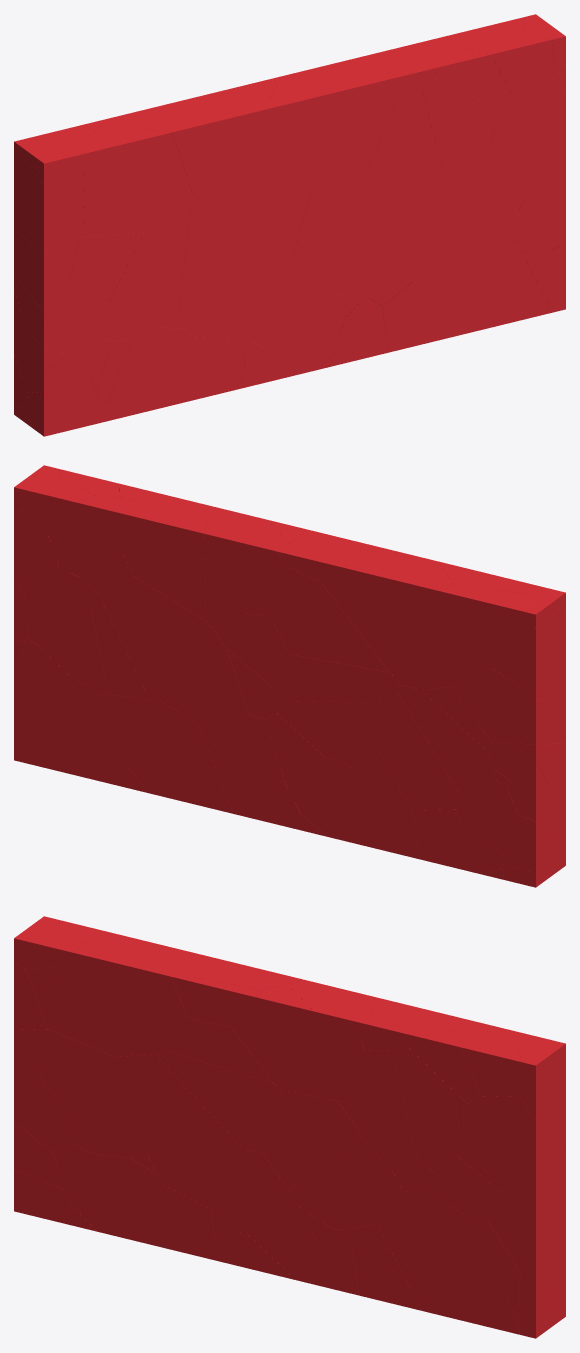
The model's file is Destroyed.fbx.
3 renders of one model, top to bottom at view 1: azimuth 30°, elevation 25°; view 2: azimuth 150°, elevation 25°; view 3: azimuth 330°, elevation 25°, orthographic.
Visible parts, largest first — view 1: Cube_cell.018, Cube_cell.034, Cube_cell.004, Cube_cell.022, Cube_cell.012, Cube_cell.040, Cube_cell.025, Cube_cell.072, Cube_cell.036, Cube_cell.030, Cube_cell.031, Cube_cell.079 (+39 smaller); view 2: Cube_cell.055, Cube_cell.045, Cube_cell.075, Cube_cell.012, Cube_cell.070, Cube_cell.020, Cube_cell.017, Cube_cell.059, Cube_cell.023, Cube_cell.028, Cube_cell.015, Cube_cell.056 (+43 smaller); view 3: Cube_cell.018, Cube_cell.034, Cube_cell.004, Cube_cell.025, Cube_cell.022, Cube_cell.012, Cube_cell.040, Cube_cell.072, Cube_cell.036, Cube_cell.030, Cube_cell.031, Cube_cell.079 (+40 smaller).
Part boxes in pixels (<box>): Cube_cell.018: <box>410,215,549,336</box>; Cube_cell.034: <box>83,126,192,236</box>; Cube_cell.004: <box>178,214,274,338</box>; Cube_cell.022: <box>106,209,190,341</box>; Cube_cell.012: <box>273,61,394,180</box>; Cube_cell.040: <box>292,168,396,280</box>; Cube_cell.025: <box>487,76,565,180</box>; Cube_cell.072: <box>319,195,433,298</box>; Cube_cell.036: <box>188,182,312,262</box>; Cube_cell.030: <box>368,92,447,212</box>; Cube_cell.031: <box>108,326,192,416</box>; Cube_cell.079: <box>261,86,343,185</box>; Cube_cell.055: <box>320,553,454,679</box>; Cube_cell.045: <box>122,500,209,620</box>; Cube_cell.075: <box>98,577,208,700</box>; Cube_cell.012: <box>205,510,290,627</box>; Cube_cell.070: <box>128,700,232,813</box>; Cube_cell.020: <box>14,675,101,775</box>; Cube_cell.017: <box>269,568,388,672</box>; Cube_cell.059: <box>470,589,563,693</box>; Cube_cell.023: <box>397,586,484,689</box>; Cube_cell.028: <box>340,750,417,857</box>; Cube_cell.015: <box>198,714,283,811</box>; Cube_cell.056: <box>379,691,460,810</box>; Cube_cell.018: <box>380,1190,519,1334</box>; Cube_cell.034: <box>53,940,161,1056</box>; Cube_cell.004: <box>148,1060,243,1208</box>; Cube_cell.025: <box>457,1096,554,1194</box>; Cube_cell.022: <box>76,1054,159,1157</box>; Cube_cell.012: <box>289,979,374,1100</box>; Cube_cell.040: <box>262,1091,366,1189</box>; Cube_cell.072: <box>289,1143,403,1229</box>; Cube_cell.036: <box>158,1049,282,1152</box>; Cube_cell.030: <box>338,1050,417,1173</box>; Cube_cell.031: <box>77,1156,162,1245</box>; Cube_cell.079: <box>231,985,313,1091</box>.
Bounding box in the file's own units: 20 × 10 × 2.
